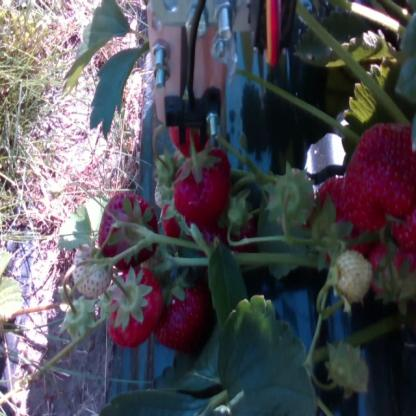ripe: (346, 121, 416, 226), (108, 268, 162, 346), (178, 148, 233, 224), (101, 198, 159, 262), (163, 283, 213, 346), (368, 245, 416, 294), (320, 186, 351, 229)
unripe: (332, 252, 374, 299), (76, 251, 112, 294)
